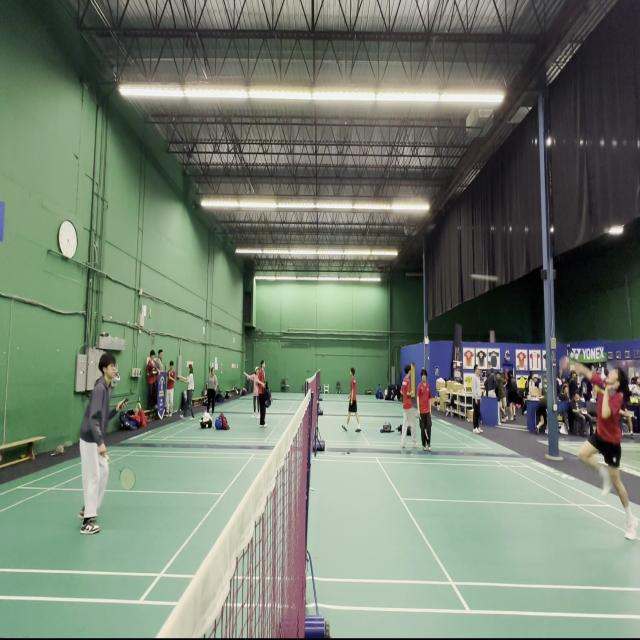shuttlecock: (468, 271, 500, 285)
